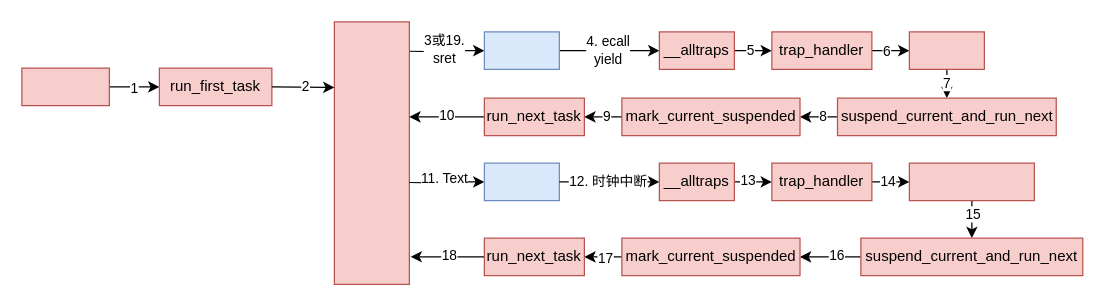
The diagram is 1105 pixels wide and 306 high, and some of its shapes have lost their labels. Here are the shapes that lost their labels. From the top down, the centre of each, then its label:
[521,50]: task0
[946,50]: sys_yield
[65,86]: rust_main
[371,152]: __switch
[521,181]: task1
[971,181]: set_next_trigger
